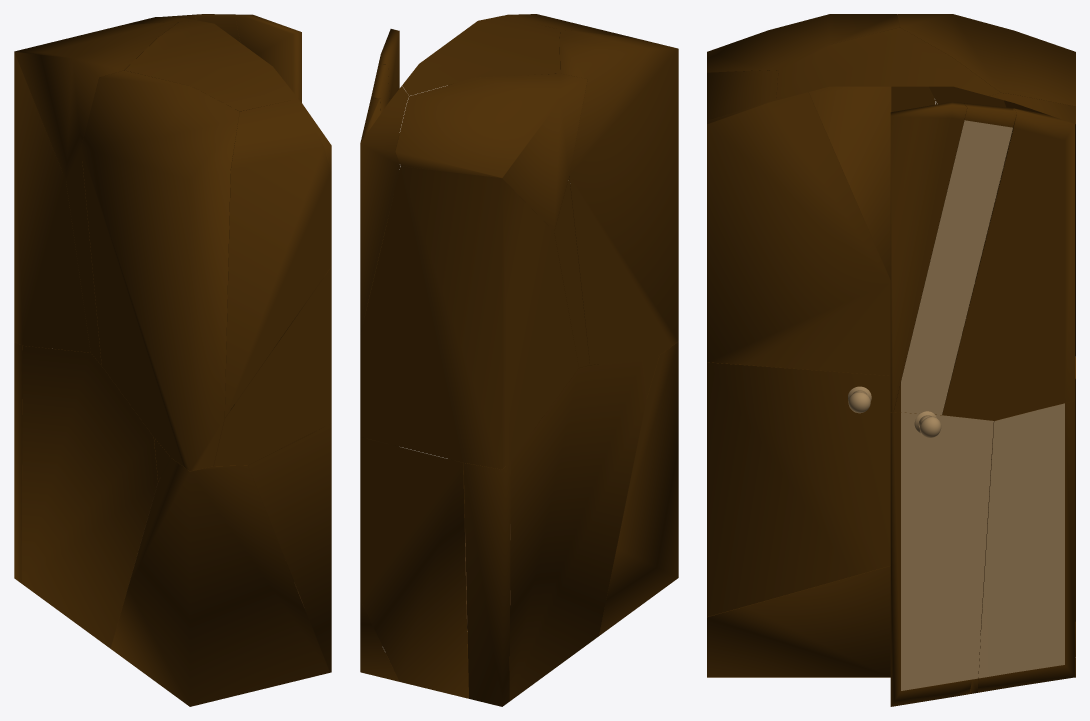
The model's file is Broken_Wardrobe_02.fbx.
3 views of the same model, side by side, from view 1: azimuth 30°, elevation 25°; view 2: azimuth 150°, elevation 25°; view 3: azimuth 270°, elevation 25° (orthographic). The views are drawn at different scales.
Parts seen in each view (by area): view 1: Cube_cell.004, Cube_cell.016, Cube_cell.007, Cube_cell.011, Cube_cell.015, Cube_cell.008, Cube_cell.005, Cube_cell.012, Cube_cell.009, Cube.002_cell.004, Cube_cell.013, Cube_cell.003 (+1 smaller); view 2: Cube_cell.007, Cube_cell.015, Cube_cell.004, Cube_cell.012, Cube_cell.016, Cube_cell.003, Cube_cell.009, Cube_cell.010, Cube_cell.013, Cube_cell.001, Cube.002_cell.004, Cube_cell.011 (+1 smaller); view 3: Cube.001_cell.001, Cube.001_cell.002, Cube.002_cell.005, Cube.002_cell.002, Cube.002_cell, Cube.001_cell.003, Cube.002_cell.003, Cube.002_cell.004, Cube_cell.012, Cube_cell.009, Cube.001_cell, Cube_cell.004 (+2 smaller).
Part boxes in pixels (x1,y1,x2,y2): Cube_cell.004: (81, 70, 239, 471); Cube_cell.016: (110, 458, 329, 706); Cube_cell.007: (21, 324, 157, 648); Cube_cell.011: (225, 99, 331, 417); Cube_cell.015: (14, 52, 97, 352); Cube_cell.008: (214, 267, 331, 466); Cube_cell.005: (248, 423, 331, 672); Cube_cell.012: (14, 22, 177, 179); Cube_cell.009: (125, 20, 297, 111); Cube.002_cell.004: (235, 14, 301, 102); Cube_cell.013: (66, 148, 101, 365); Cube_cell.003: (14, 342, 52, 583); Cube_cell.007: (360, 360, 646, 701); Cube_cell.015: (360, 166, 578, 469); Cube_cell.004: (559, 30, 678, 364); Cube_cell.012: (395, 73, 587, 231); Cube_cell.016: (599, 341, 678, 635); Cube_cell.003: (463, 461, 510, 706); Cube_cell.009: (402, 15, 560, 95); Cube_cell.010: (360, 86, 408, 333); Cube_cell.013: (554, 177, 589, 367); Cube_cell.001: (360, 601, 399, 681); Cube.002_cell.004: (378, 29, 399, 191); Cube_cell.011: (504, 15, 636, 182); Cube.001_cell.001: (707, 92, 890, 375); Cube.001_cell.002: (707, 362, 890, 616); Cube.002_cell.005: (942, 108, 1074, 420); Cube.002_cell.002: (890, 412, 993, 706); Cube.002_cell: (977, 401, 1074, 692); Cube.001_cell.003: (707, 566, 890, 677); Cube.002_cell.003: (893, 103, 1016, 414); Cube.002_cell.004: (890, 102, 966, 411); Cube_cell.012: (897, 14, 1075, 114); Cube_cell.009: (776, 27, 1000, 100); Cube.001_cell: (809, 86, 891, 279); Cube_cell.004: (707, 14, 935, 111).
Size of the model in its own units: 292 by 760 by 430.
